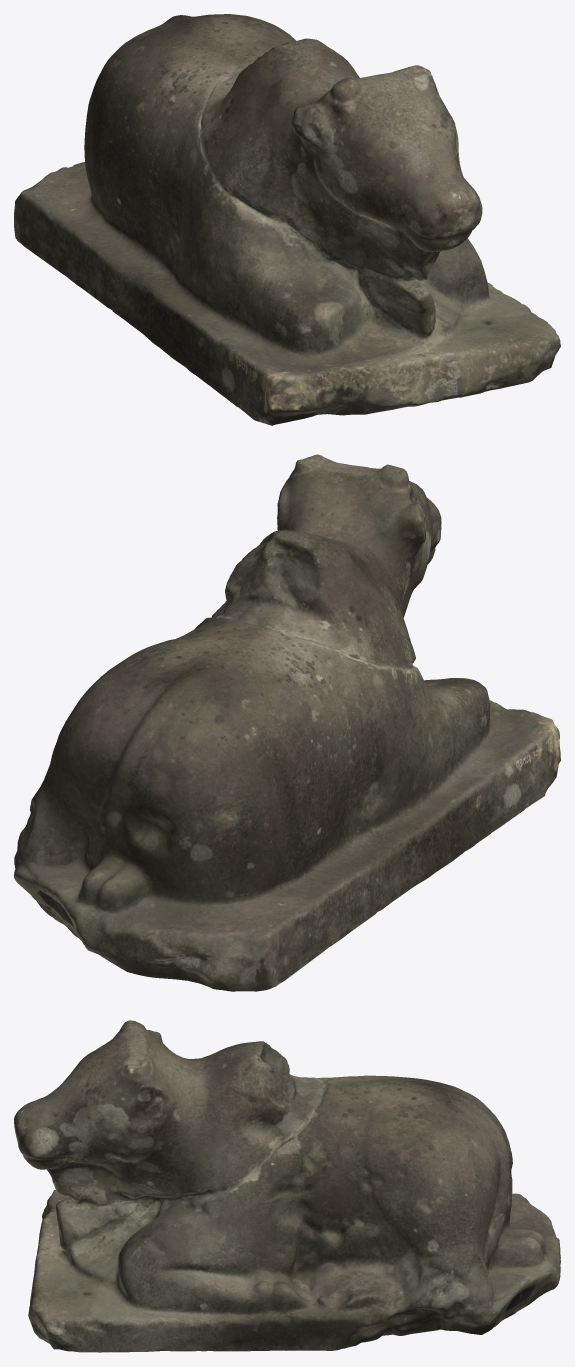
The model's file is MysonMuseum_BothanNandin_final.glb.
3 renders of one model, top to bottom at view 1: azimuth 30°, elevation 25°; view 2: azimuth 150°, elevation 25°; view 3: azimuth 270°, elevation 25°, orthographic. The views are drawn at different scales.
Bounding box in the file's own units: 0.4486 × 0.4401 × 0.8426.
1 material, 1 textured.
